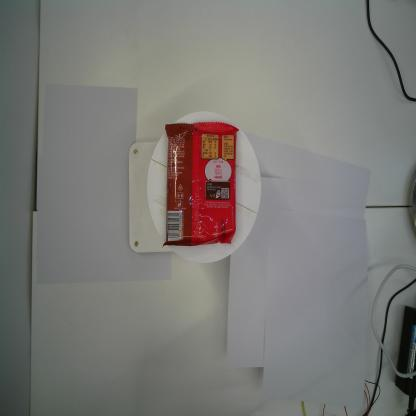Dessert: (160, 122, 240, 249)
